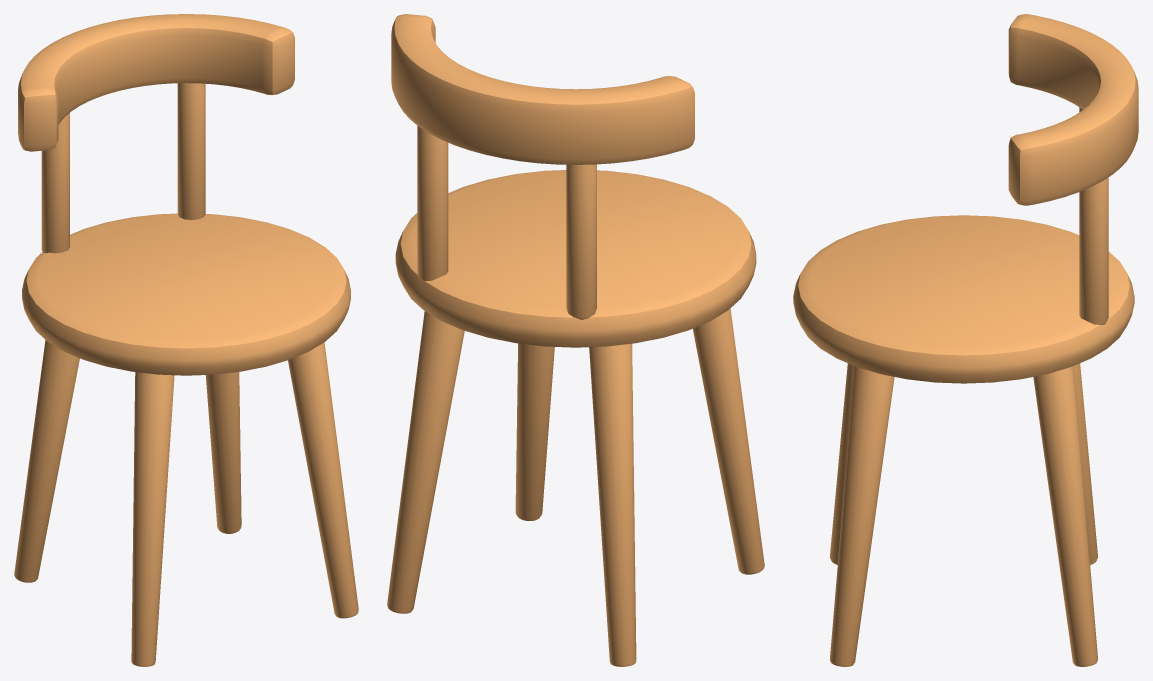
File: cadeira_bistro_laranja.glb
3 renders of one model, left to right at view 1: azimuth 30°, elevation 25°; view 2: azimuth 150°, elevation 25°; view 3: azimuth 270°, elevation 25°, orthographic. The views are drawn at different scales.
Visible parts, largest first — view 1: cadeira_bistro_laranja; view 2: cadeira_bistro_laranja; view 3: cadeira_bistro_laranja.
Part boxes in pixels (bbox=[...]): cadeira_bistro_laranja: bbox=[14, 14, 358, 666]; cadeira_bistro_laranja: bbox=[387, 14, 764, 666]; cadeira_bistro_laranja: bbox=[793, 14, 1138, 666].
Size of the model in its own units: 0.42 by 0.7267 by 0.425.
Materials: 1 (1 with a texture image).
